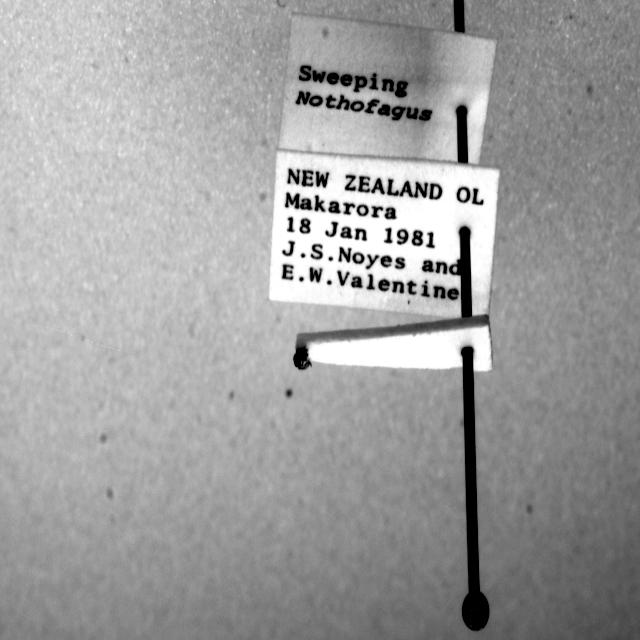typed_label: (269, 150, 499, 317), (279, 13, 496, 165)
